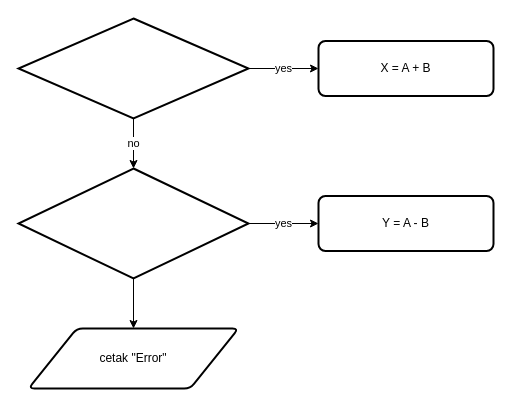
Image size: 511x406. Some labels were removed from this diagram. The shapes that lost their labels are listed below. From the top down, each one's centre as x and y in pixels, then its label:
[133,68]: IF A == 10 dan B > 7
[133,223]: IF A != 10 dan B < 7 or IF A == 10 dan B > 7 or IF A != 10 dan B > 7
